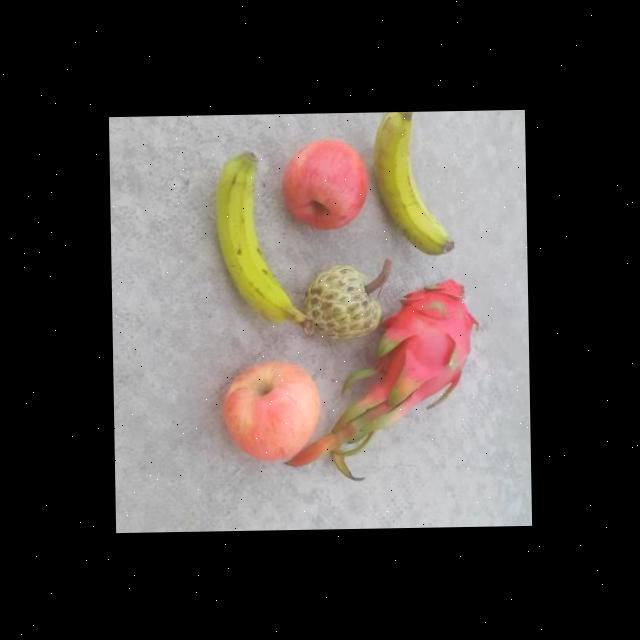Sakya fruit: (302, 265, 380, 338)
apple: (221, 357, 319, 468), (282, 140, 369, 228)
banana: (213, 144, 299, 324), (369, 110, 458, 258)
pitaya: (382, 274, 486, 400)
